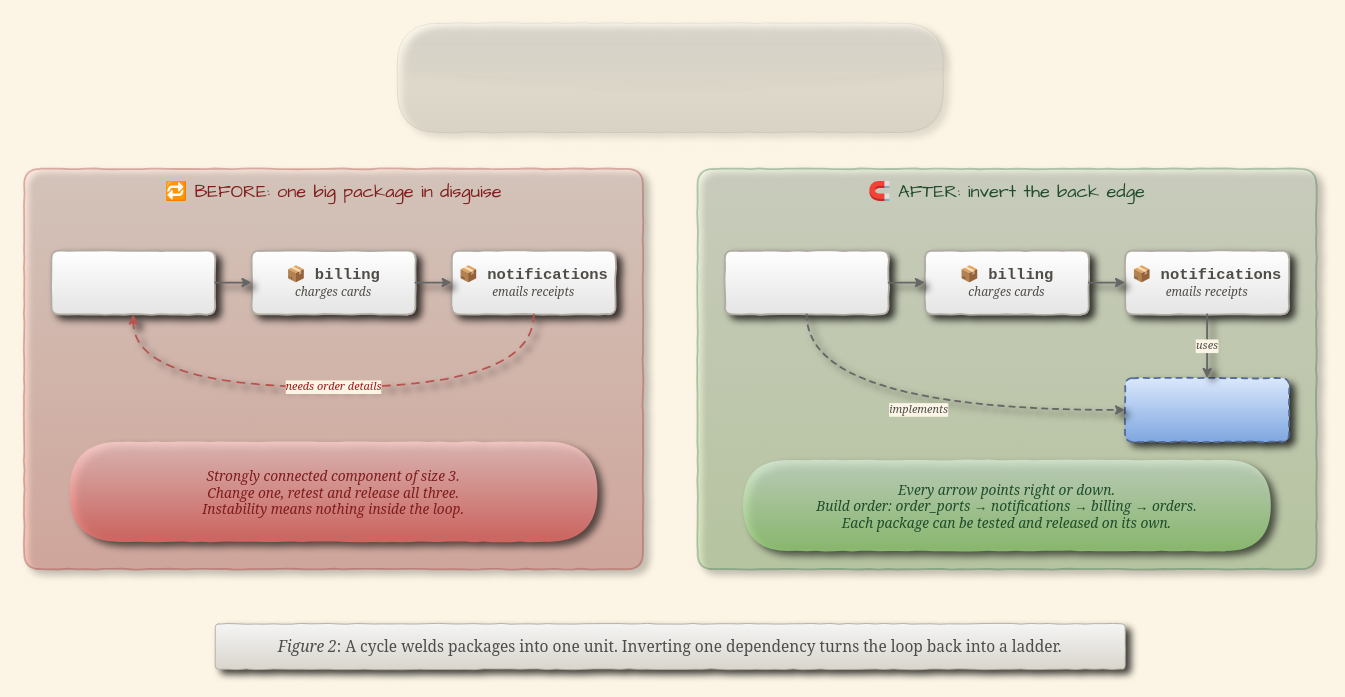
The diagram is 1345 pixels wide and 697 high, and some of its shapes have lost their labels. The shapes that lost their labels are listed below. From the top down, each one's centre as x and y in pixels, then its label:
[672,79]: Breaking a Dependency Cycle Acyclic Dependencies Principle by Steven Miers
[135,284]: 📦 orders places orders
[809,284]: 📦 orders implements OrderLookup
[1209,411]: 📦 order_ports «protocol» OrderLookup
